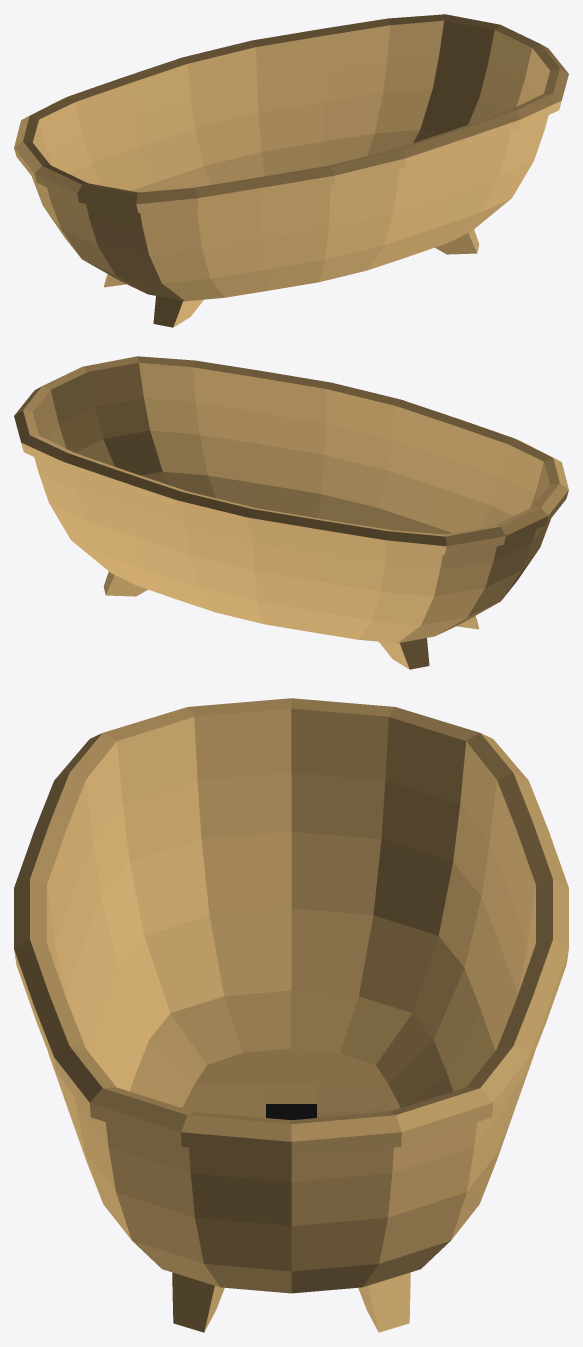
The model's file is Bathtub 2.fbx.
3 views of the same model, one above another, from view 1: azimuth 30°, elevation 25°; view 2: azimuth 150°, elevation 25°; view 3: azimuth 270°, elevation 25° (orthographic). The views are drawn at different scales.
Visible parts, largest first — view 1: Bathtub; view 2: Bathtub; view 3: Bathtub.
Part boxes in pixels (x1=…): Bathtub: x1=14, y1=14, x2=568, y2=327; Bathtub: x1=14, y1=356, x2=568, y2=669; Bathtub: x1=14, y1=698, x2=568, y2=1332.
Size of the model in its own units: 1.69 by 0.9534 by 3.16.
